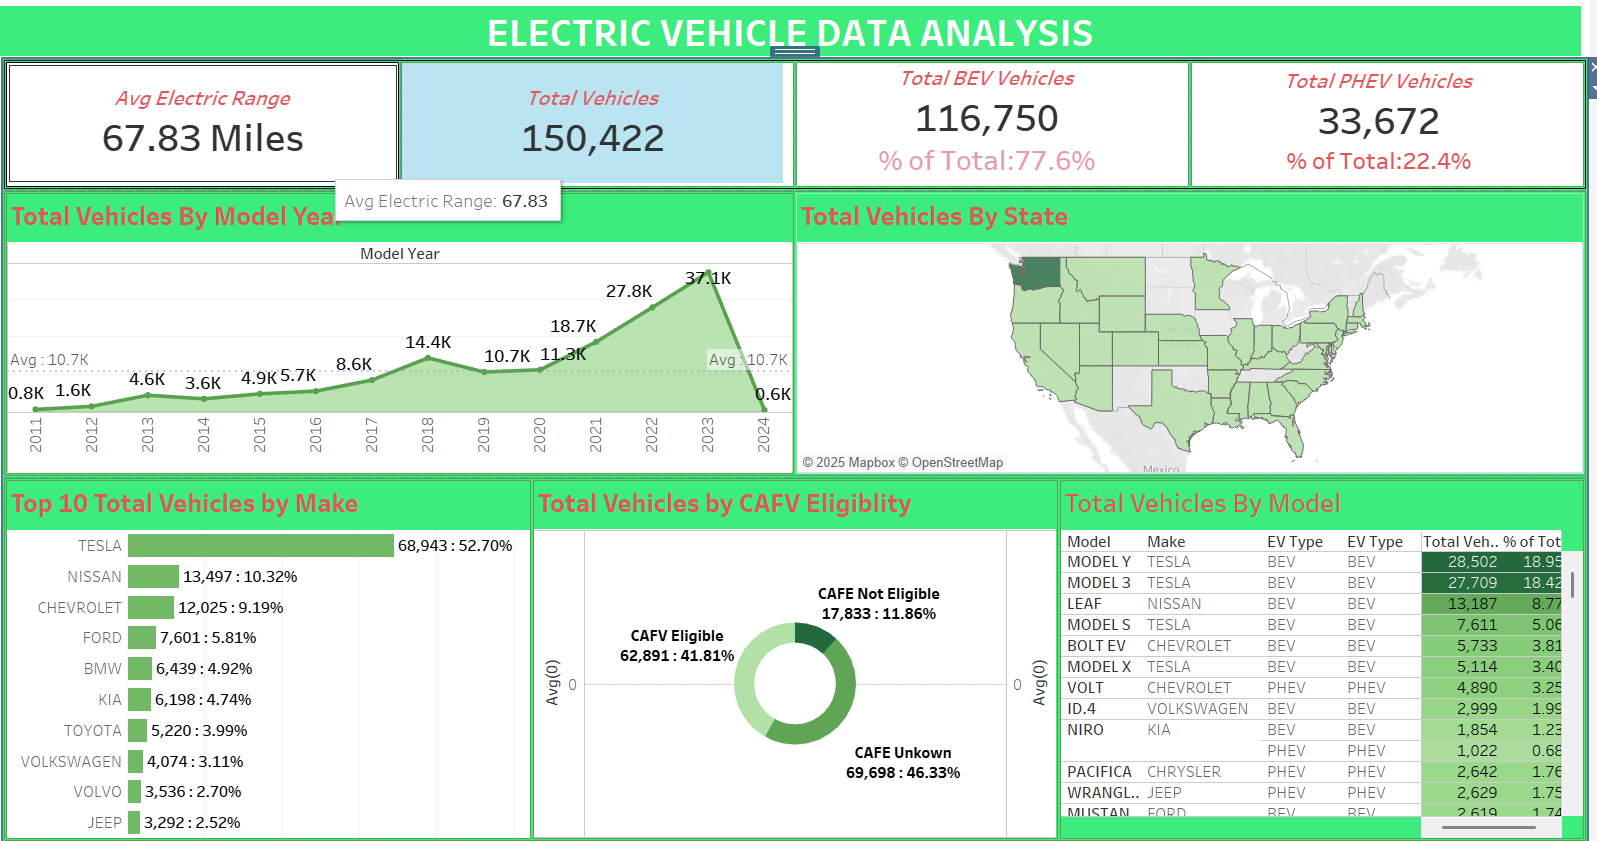

The page's visual inventory and layout, read from the dashboard file:
{"tool":"tableau","page":{"name":"ELECTRIC VEHICLE DATA ANALYSIS Dashborard","canvas":[1600,900],"ordinal":0},"visuals":[{"type":"title","box":[8,8,1584,52]},{"type":"worksheet","title":"Average Electric Range","mark":"Automatic","box":[15,64,395,127]},{"type":"worksheet","title":"Total Vehicles","mark":"Automatic","box":[410,64,395,127]},{"type":"worksheet","title":"Total BEV Vehicles","mark":"Automatic","box":[805,64,395,127]},{"type":"worksheet","title":"Total PHEV Vehicles ","mark":"Automatic","box":[1200,64,395,127]},{"type":"worksheet","title":"Total Vehicles By Model Year","mark":"Area","rows":["Calculation_740560671823884288","Calculation_740560671823884288"],"cols":["Model Year"],"box":[15,195,790,283]},{"type":"worksheet","title":"Total Vehicles By State","mark":"Automatic","box":[805,195,790,283]},{"type":"worksheet","title":"Top 10 Total Vehicles by Make","mark":"Automatic","rows":["Make"],"cols":["Calculation_740560671823884288"],"box":[15,482,527,361]},{"type":"worksheet","title":"Total Vehicles by CAFV Eligiblity","mark":"Pie","rows":["Calculation_817966291705364481","Calculation_817966291705364481"],"box":[542,482,527,361]},{"type":"worksheet","title":"Total Vehicles By Model","mark":"Square","rows":["Model","Make","Electric Vehicle Type","Electric Vehicle Type"],"box":[1069,482,526,361]}]}

Visuals, with their boxes on the page's 1600x900 design canvas (x1, y1, x2, y2). These are canvas units, not pixel positions in the 1597x841 screenshot, which may show the page scaled, cropped or inside an application window:
title: (8, 8, 1592, 60)
"Average Electric Range" worksheet: (15, 64, 410, 191)
"Total Vehicles" worksheet: (410, 64, 805, 191)
"Total BEV Vehicles" worksheet: (805, 64, 1200, 191)
"Total PHEV Vehicles " worksheet: (1200, 64, 1595, 191)
"Total Vehicles By Model Year" worksheet (Area marks): (15, 195, 805, 478)
"Total Vehicles By State" worksheet: (805, 195, 1595, 478)
"Top 10 Total Vehicles by Make" worksheet: (15, 482, 542, 843)
"Total Vehicles by CAFV Eligiblity" worksheet (Pie marks): (542, 482, 1069, 843)
"Total Vehicles By Model" worksheet (Square marks): (1069, 482, 1595, 843)
